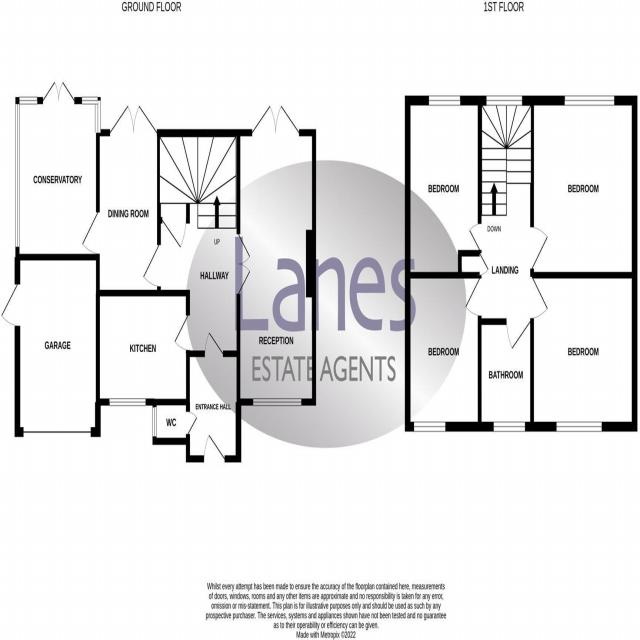DOOR: (237, 227, 253, 299), (141, 237, 161, 290), (160, 216, 190, 251), (0, 278, 20, 330), (80, 205, 100, 257), (505, 319, 534, 353), (530, 225, 550, 274), (530, 275, 549, 320), (463, 274, 482, 318), (202, 431, 225, 463), (173, 311, 190, 353), (204, 329, 224, 357), (468, 221, 482, 253), (186, 409, 199, 439)
DOUBLE DOOR: (247, 96, 304, 141), (105, 95, 160, 135)
ROOM: (530, 95, 637, 278), (530, 271, 638, 432), (76, 97, 160, 299), (404, 95, 482, 279), (405, 271, 482, 432), (96, 288, 190, 407), (186, 325, 242, 463)
WINDOW: (14, 103, 22, 250), (564, 93, 615, 107), (555, 420, 603, 433), (252, 396, 303, 408), (485, 93, 524, 107), (413, 419, 446, 434), (493, 420, 526, 433), (428, 94, 461, 107), (109, 397, 146, 407), (18, 95, 38, 107), (94, 101, 101, 134), (151, 406, 158, 438), (81, 95, 98, 107)
